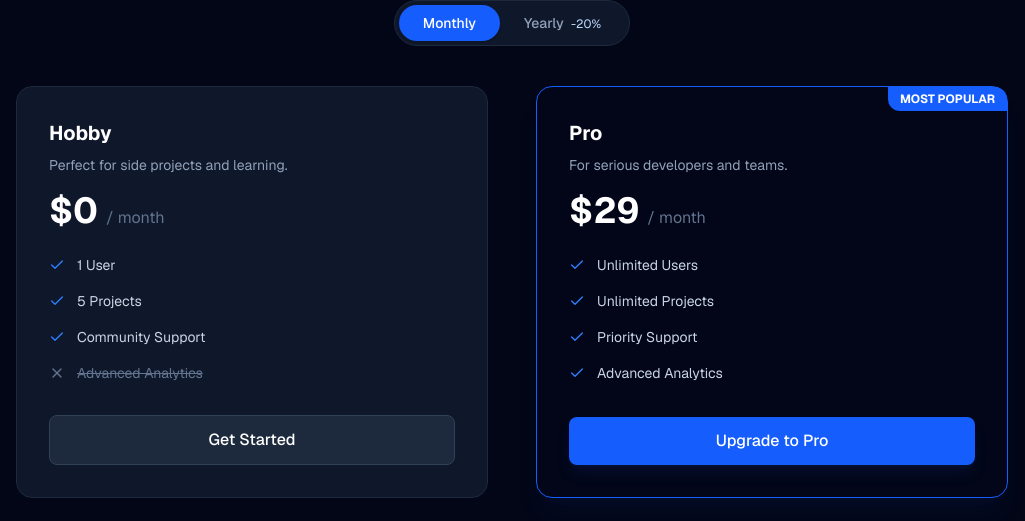
Test: PricingTable › toggles yearly pricing
Expected: the text "$29" is shown, [569, 187, 639, 234]
// Click "Yearly" toggle
Click the button "Yearly -20%": (563, 23) [500, 5, 625, 41]
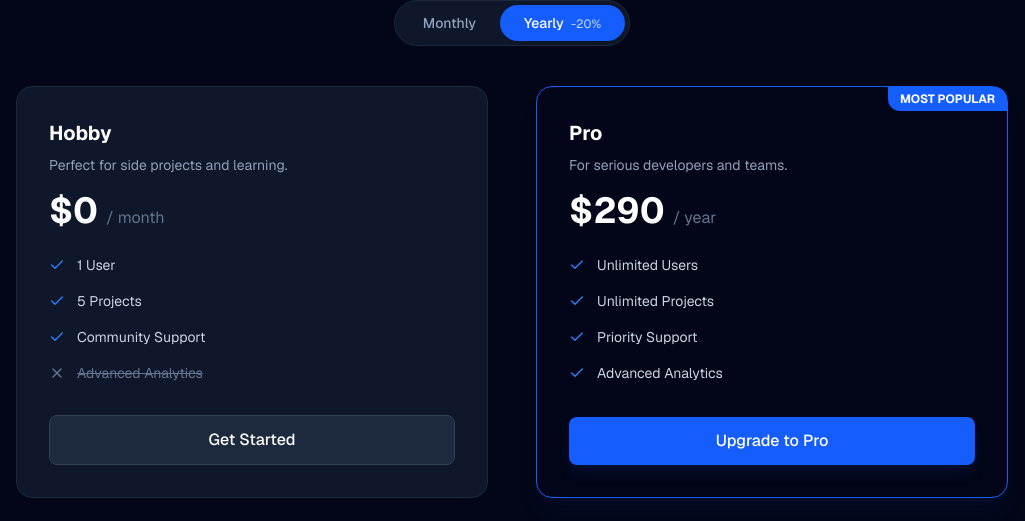
Expected: the text "$290" is shown, [569, 187, 665, 234]
